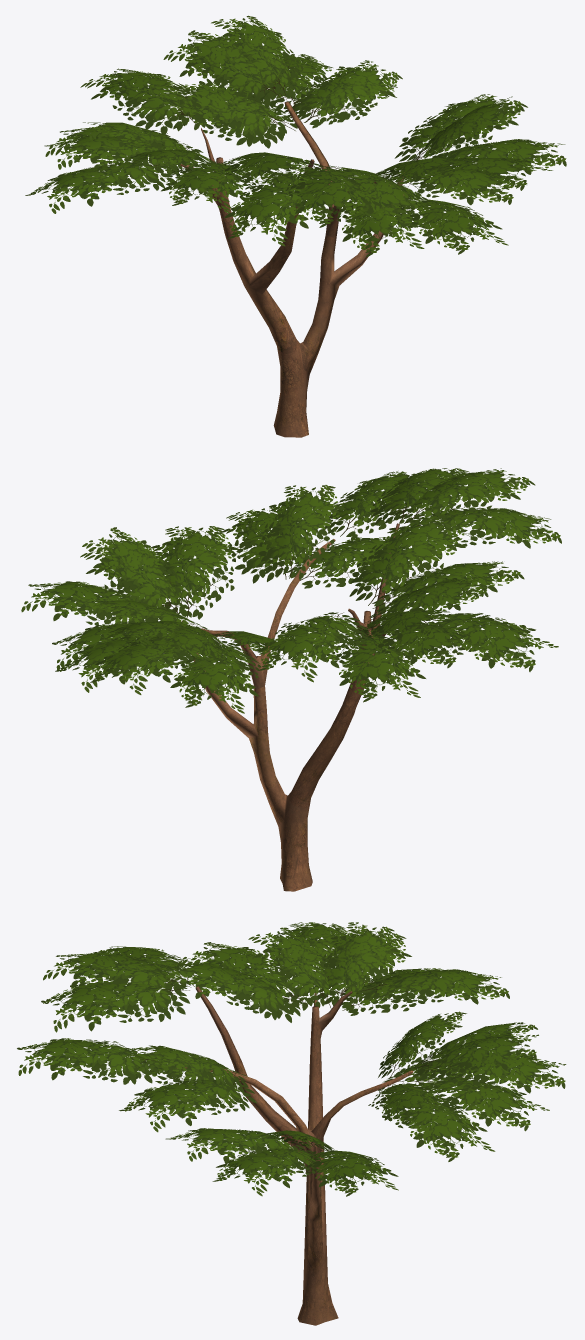
File: Tree_5.fbx
The picture shows the model from 3 angles, top to bottom: view 1: azimuth 30°, elevation 25°; view 2: azimuth 150°, elevation 25°; view 3: azimuth 270°, elevation 25°; orthographic projection. The views are drawn at different scales.
Visible parts, largest first — view 1: polySurface190; view 2: polySurface190; view 3: polySurface190.
Boxes of the visible parts, <box> form: polySurface190: <box>25,15,566,437</box>; polySurface190: <box>21,468,561,891</box>; polySurface190: <box>17,922,566,1325</box>.
Size of the model in its own units: 1064 by 673 by 1040.
